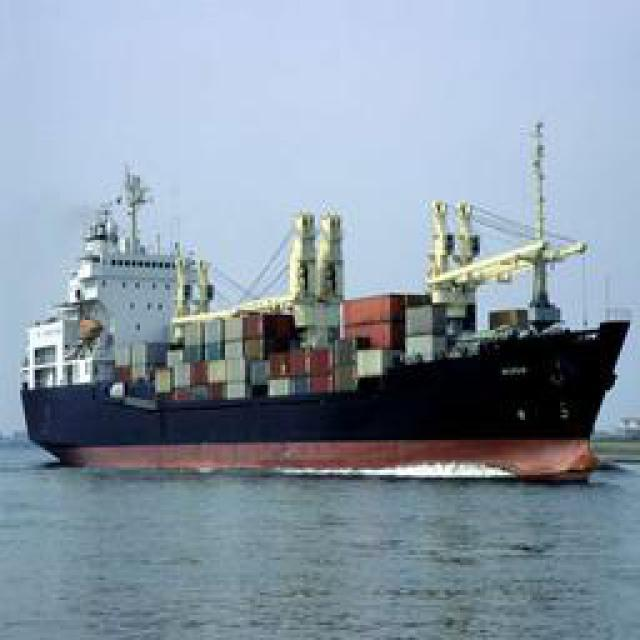Ship: (37, 166, 627, 471)
